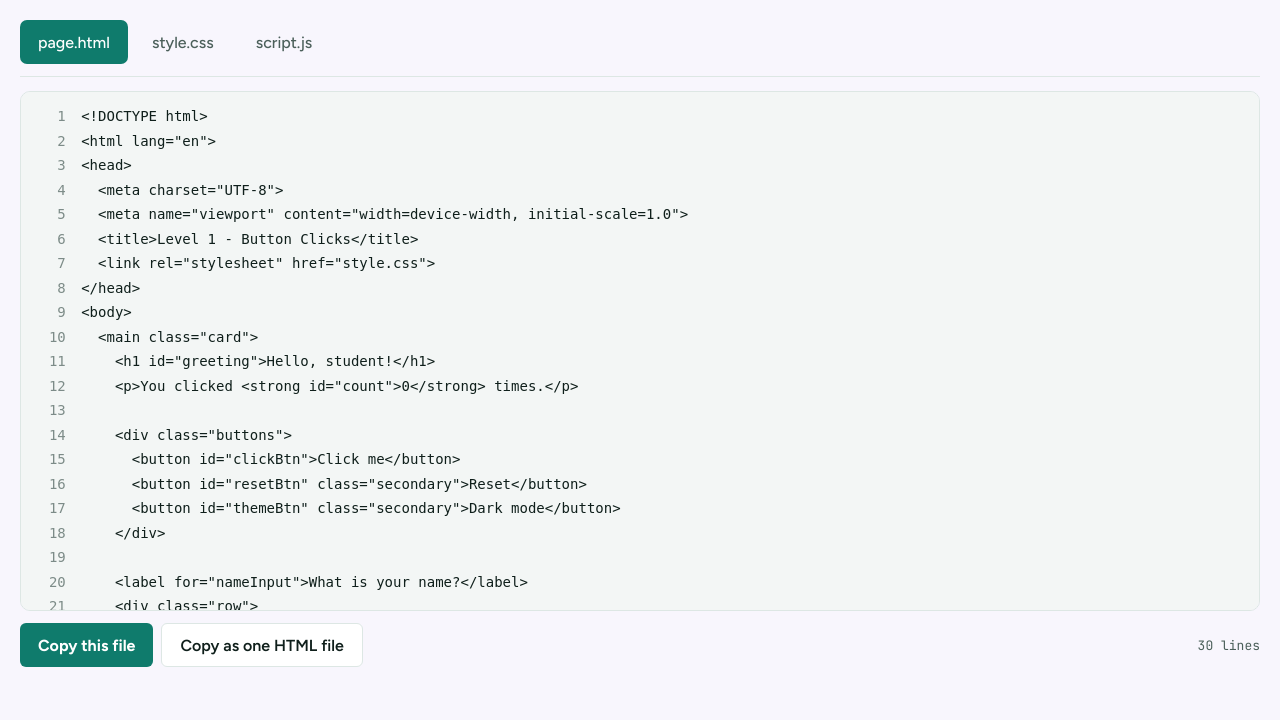
Test case: CodeBox copy › a second click restarts the timer; the other button keeps its own label
Click the button "Copy this file" at coordinates (87, 645), box [20,623,154,667]
Wait 1000 ms
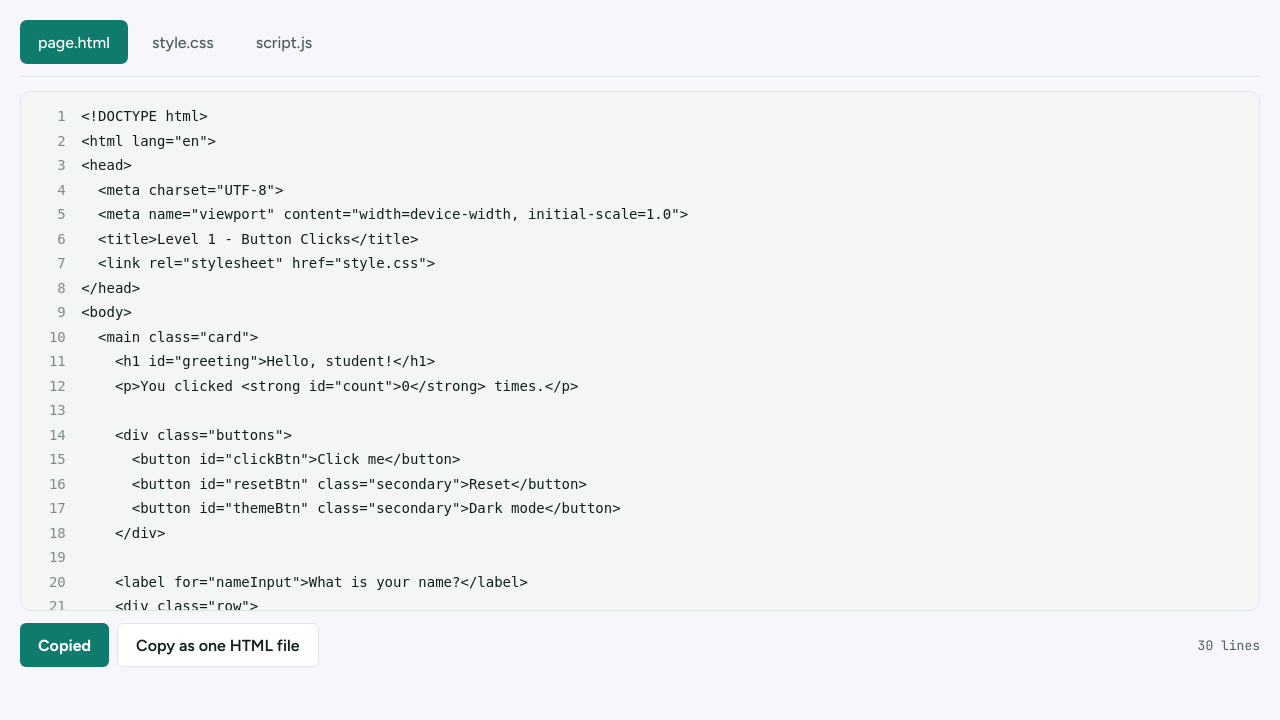
Click the button "Copied" at coordinates (65, 645), box [20,623,109,667]
Wait 1600 ms
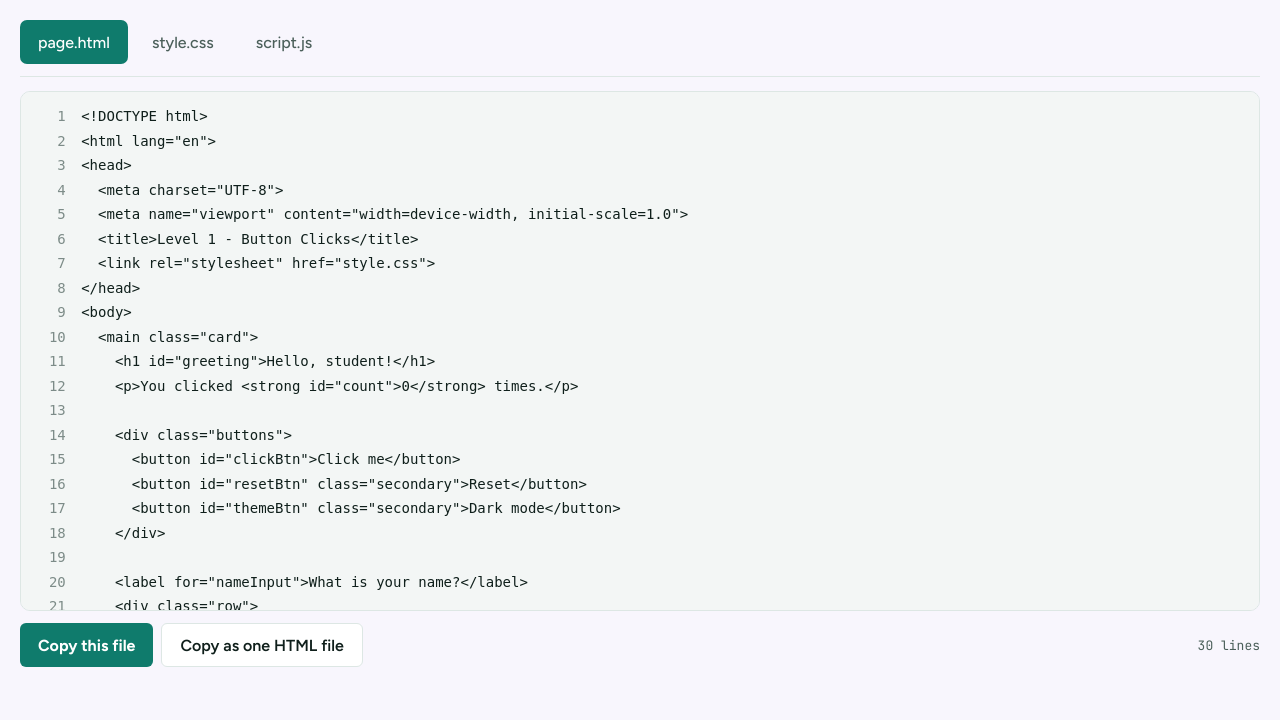
Expected: the button "Copy as one HTML file" is shown, [162,623,363,667]
Expected: the button "Copy this file" is shown, [20,623,154,667]
